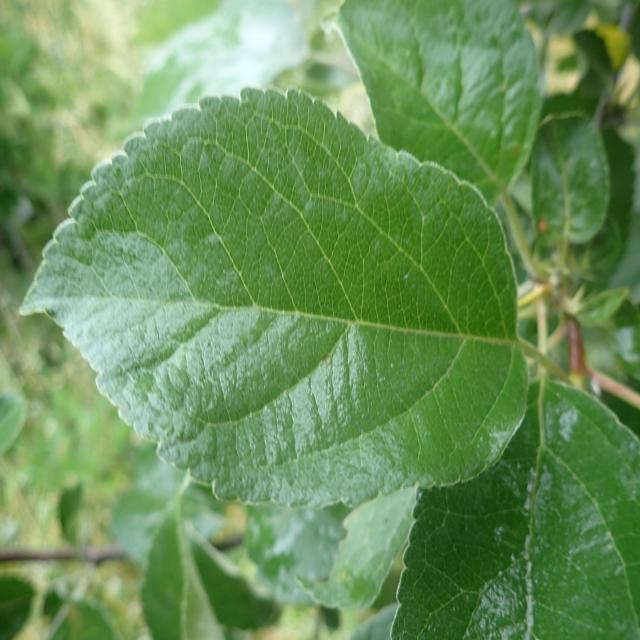healthy: (18, 86, 530, 512), (389, 374, 640, 640), (336, 0, 541, 209)
